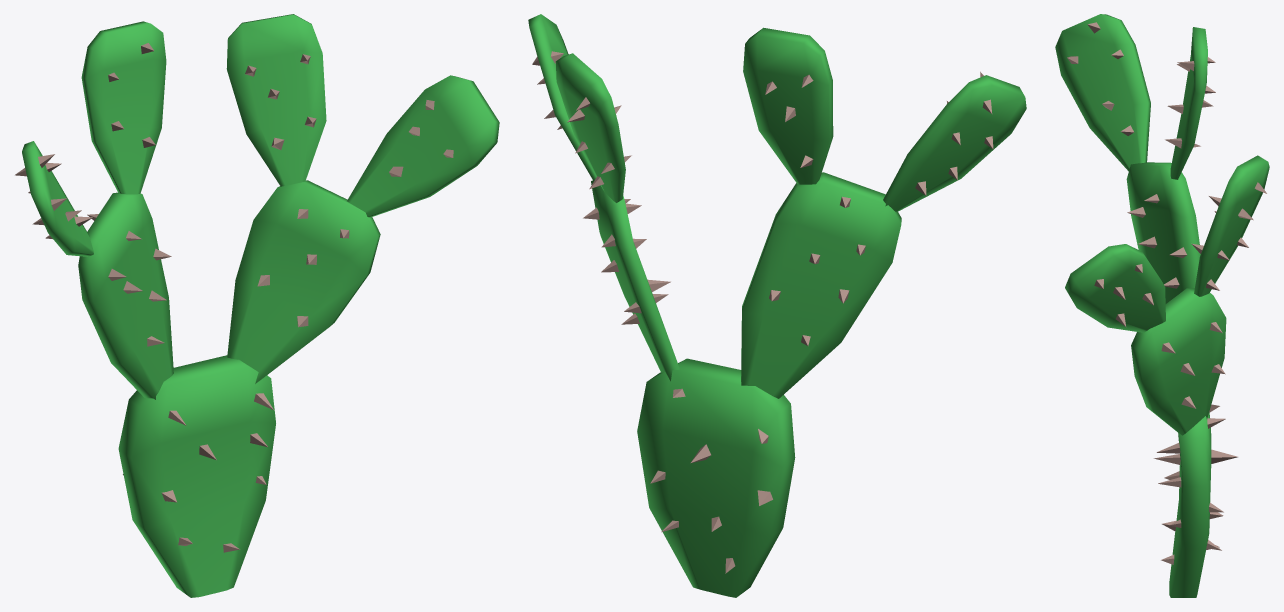
The model's file is Cactus3.fbx.
The picture shows the model from 3 angles, left to right: view 1: azimuth 30°, elevation 25°; view 2: azimuth 150°, elevation 25°; view 3: azimuth 270°, elevation 25°; orthographic projection. The views are drawn at different scales.
Visible parts, largest first — view 1: Cactus3.001; view 2: Cactus3.001; view 3: Cactus3.001.
Part boxes in pixels (<box>): Cactus3.001: <box>15,14,499,597</box>; Cactus3.001: <box>528,14,1026,597</box>; Cactus3.001: <box>1055,14,1269,597</box>.
Bounding box in the file's own units: 0.5334 × 1.23 × 1.43.
